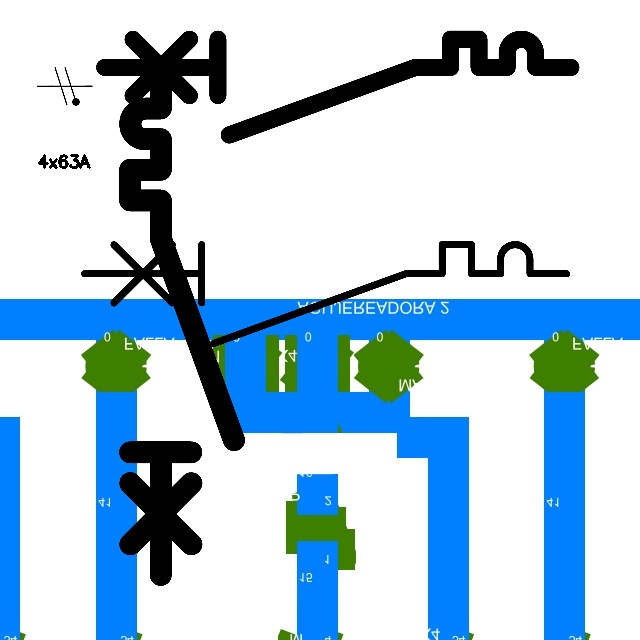interruptor_termomagnetico: (117, 57, 247, 588), (72, 232, 579, 356), (92, 27, 582, 147)
